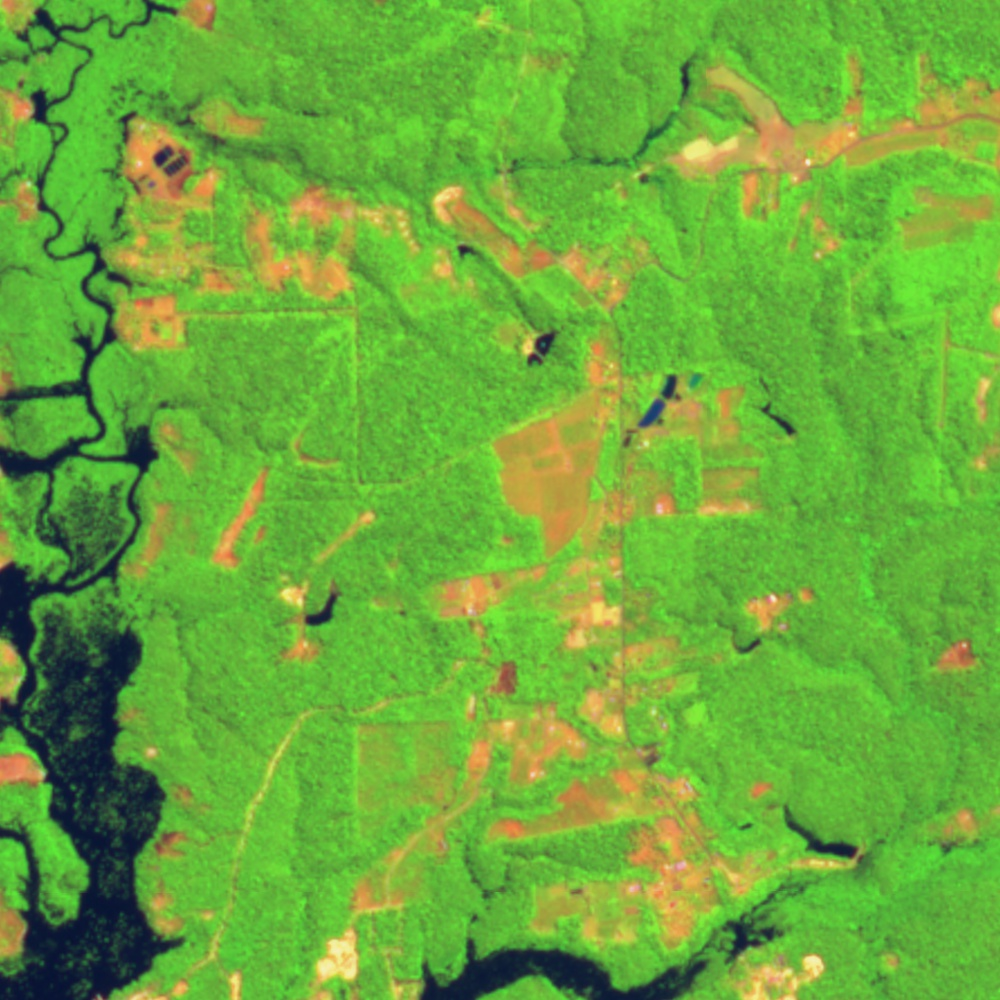legal: (79, 98, 426, 352), (445, 554, 705, 843), (670, 48, 1000, 258), (430, 159, 668, 386), (494, 337, 697, 553), (507, 809, 781, 951), (622, 371, 800, 525), (709, 583, 823, 659), (207, 466, 275, 575), (272, 574, 340, 667), (1, 75, 40, 227), (773, 811, 868, 871), (725, 945, 824, 1000), (150, 779, 214, 864), (138, 885, 219, 943), (131, 493, 180, 585), (306, 924, 365, 1000), (974, 303, 1000, 471), (133, 959, 238, 1000), (923, 807, 1000, 860), (350, 865, 409, 925), (321, 507, 377, 563), (1, 1, 54, 59), (287, 424, 348, 468), (1, 885, 34, 961), (931, 635, 979, 677), (1, 640, 31, 706), (159, 426, 202, 471), (1, 747, 50, 786), (168, 1, 225, 30), (736, 776, 783, 798), (1, 360, 20, 407), (879, 944, 902, 969)
